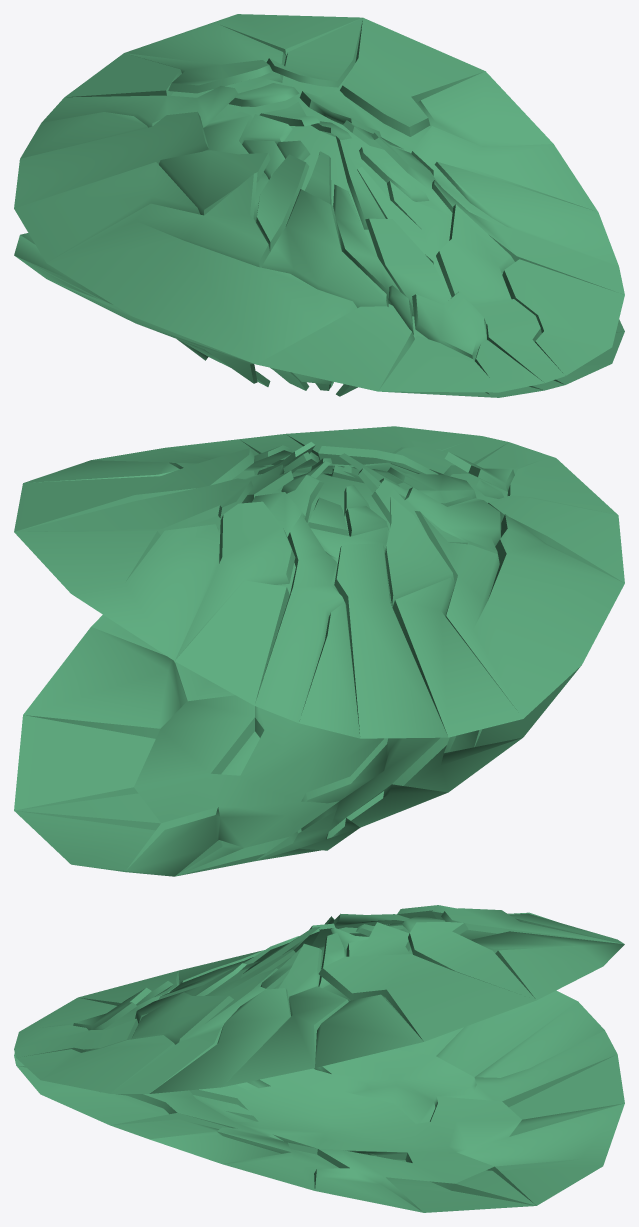
The model's file is etc_dargonship_weapon_eff_wand_s_eff2.glb.
3 renders of one model, top to bottom at view 1: azimuth 30°, elevation 25°; view 2: azimuth 150°, elevation 25°; view 3: azimuth 270°, elevation 25°, orthographic. The views are drawn at different scales.
Size of the model in its own units: 1.08 by 0.6797 by 1.5.
